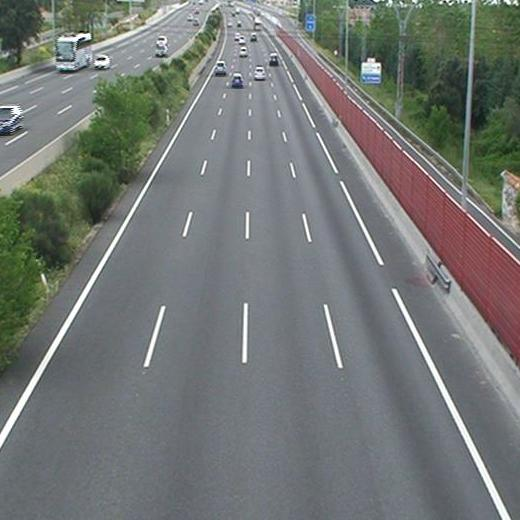car: (214, 61, 226, 76), (254, 66, 266, 81), (231, 73, 242, 87), (269, 53, 278, 66), (239, 46, 247, 57), (237, 35, 245, 45), (250, 32, 257, 42)
